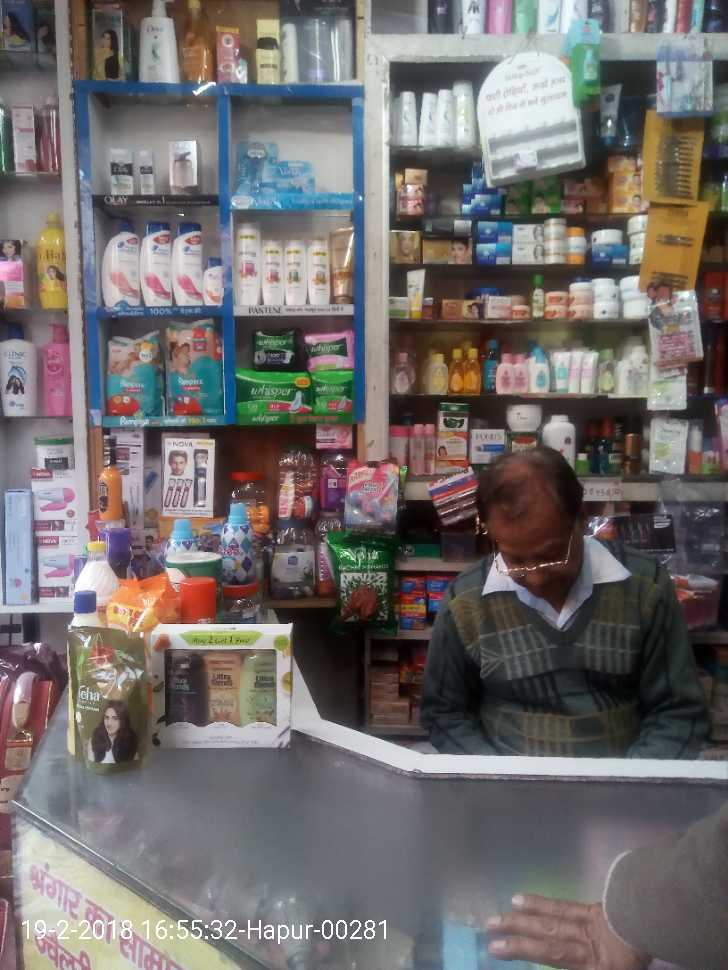venus: (239, 143, 277, 194), (277, 162, 314, 194)
